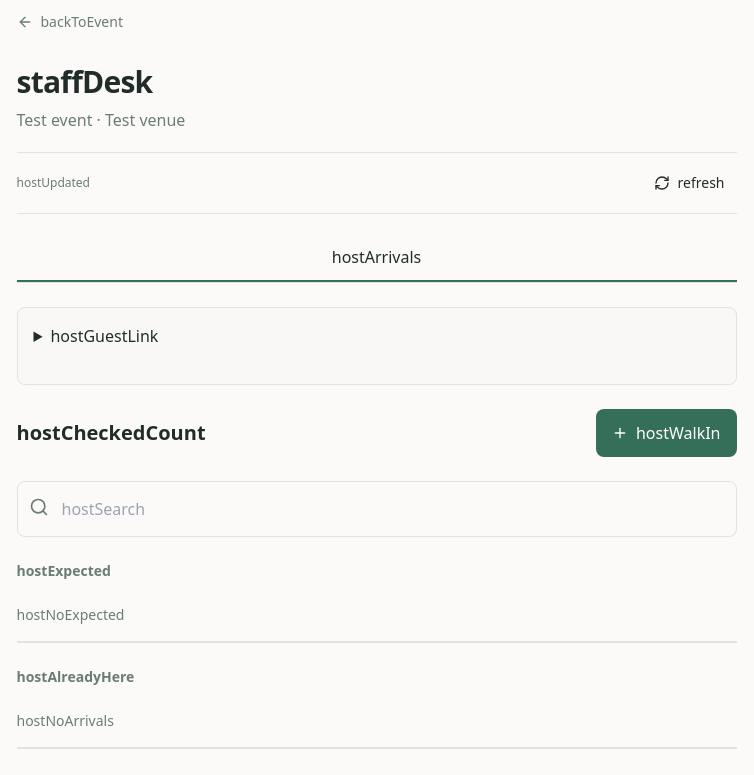
Test case: arrival staff permissions in the UI › lets welcome-only staff check in without payment, ordering or team controls
Click the button "hostWalkIn".
click(666, 433)  # box x1=596 y1=409 x2=736 y2=457
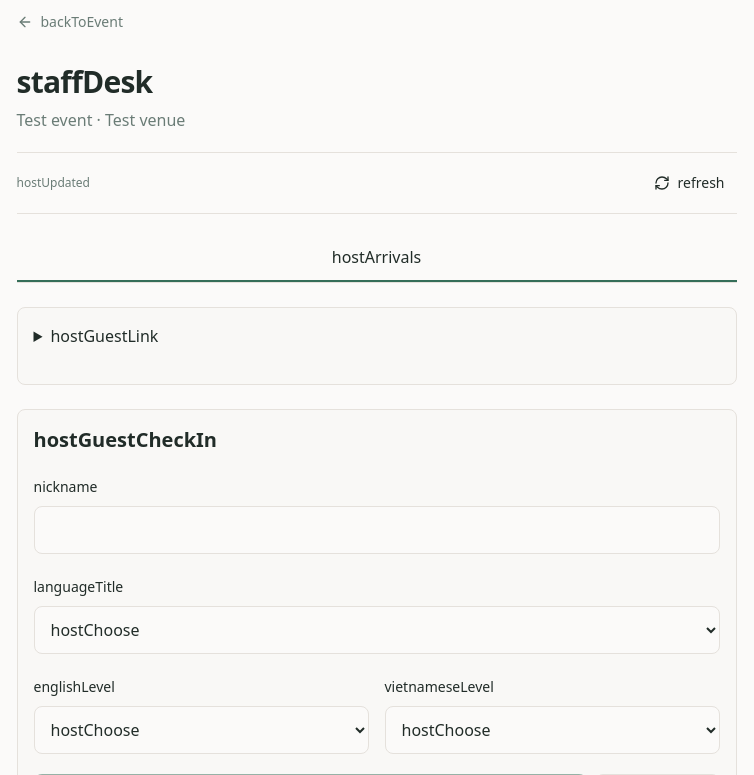
Expected: the field labelled "nickname" is shown, x1=34 y1=506 x2=720 y2=554
